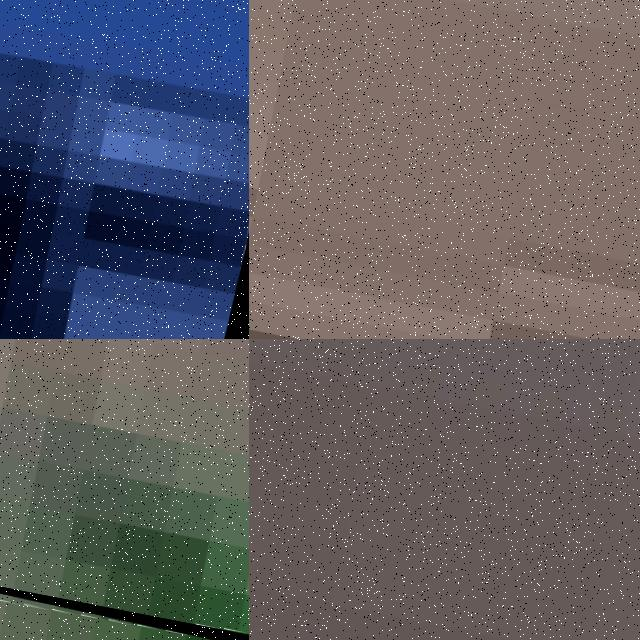0: (0, 0, 249, 339)
drone: (0, 528, 249, 640)
